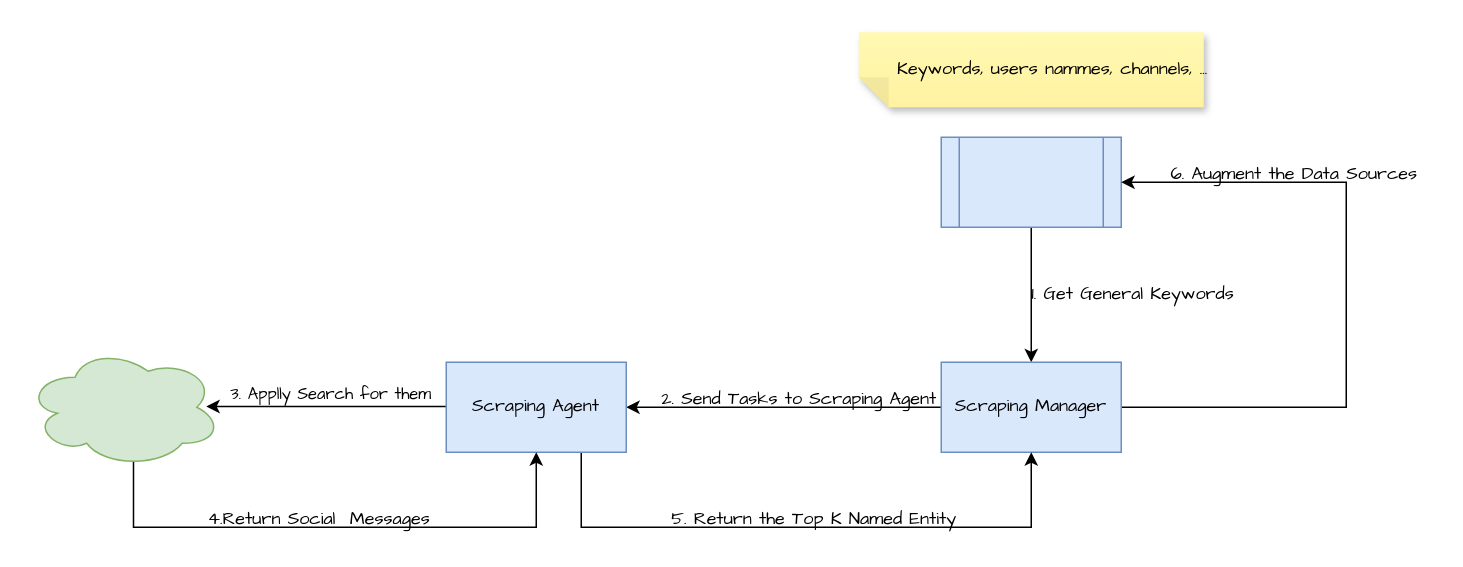
This 1463x567 diagram has some shape labels left out. The centre of each missing label's shape, as x and y in pixels:
"Data Sources" belongs at point 1030,181.
"Social Platforms" belongs at point 123,406.
